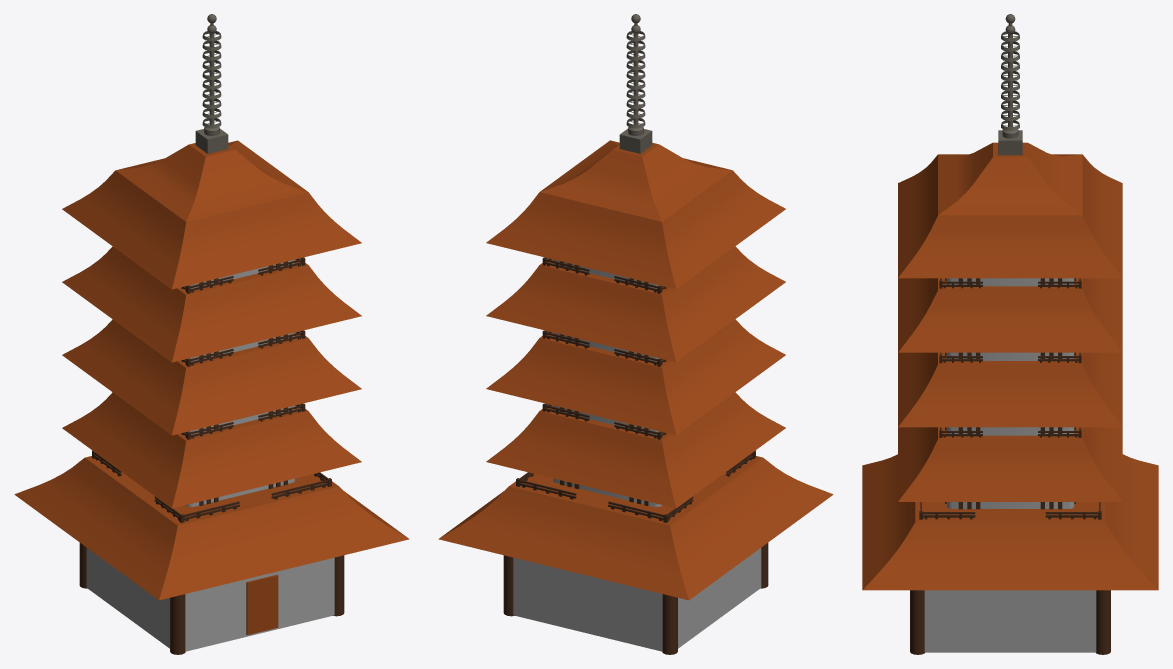
The model's file is Tower.fbx.
The picture shows the model from 3 angles, left to right: view 1: azimuth 30°, elevation 25°; view 2: azimuth 150°, elevation 25°; view 3: azimuth 270°, elevation 25°; orthographic projection. The views are drawn at different scales.
Visible parts, largest first — view 1: Cube.010, Cube.009, Cube.008, Cylinder.002, Plane.001, Circle, Cube.011, Cube.021, Cube.014, Cube.013, Cube.012; view 2: Cube.010, Cube.009, Cube.008, Cylinder.002, Circle, Cube.011, Cube.021, Cube.014, Cube.013, Cube.012; view 3: Cube.010, Cube.009, Cube.008, Cylinder.002, Circle, Cube.021, Cube.011, Cube.020, Cube.015, Cube.018, Cube.017, Cube.019 (+3 smaller).
Part boxes in pixels (<box>): Cube.010: <box>62,140,361,508</box>; Cube.009: <box>14,456,409,600</box>; Cube.008: <box>86,548,334,651</box>; Cylinder.002: <box>79,543,344,654</box>; Plane.001: <box>246,574,278,635</box>; Circle: <box>202,31,221,128</box>; Cube.011: <box>92,450,331,522</box>; Cube.021: <box>195,14,228,153</box>; Cube.014: <box>181,257,305,293</box>; Cube.013: <box>181,330,305,366</box>; Cube.012: <box>181,403,305,439</box>; Cube.010: <box>486,140,785,508</box>; Cube.009: <box>438,456,833,600</box>; Cube.008: <box>513,548,761,651</box>; Cylinder.002: <box>503,543,768,654</box>; Circle: <box>626,31,645,128</box>; Cube.011: <box>516,450,755,522</box>; Cube.021: <box>619,14,652,153</box>; Cube.014: <box>542,257,666,293</box>; Cube.013: <box>542,330,666,366</box>; Cube.012: <box>542,403,666,439</box>; Cube.010: <box>898,142,1122,501</box>; Cube.009: <box>862,454,1158,590</box>; Cube.008: <box>924,590,1096,652</box>; Cylinder.002: <box>910,590,1110,654</box>; Circle: <box>1001,31,1019,130</box>; Cube.021: <box>998,14,1022,155</box>; Cube.011: <box>919,502,1101,519</box>; Cube.020: <box>946,278,1074,286</box>; Cube.015: <box>945,278,1075,509</box>; Cube.018: <box>946,427,1074,435</box>; Cube.017: <box>946,502,1074,508</box>; Cube.019: <box>946,352,1074,360</box>.
Bounding box in the file's own units: 1827 × 4069 × 1827.
